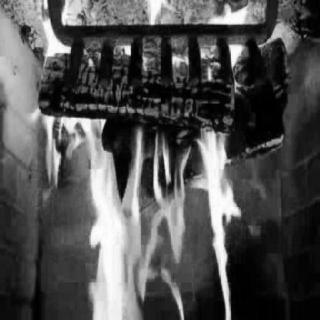Fire: (4, 14, 298, 318)
